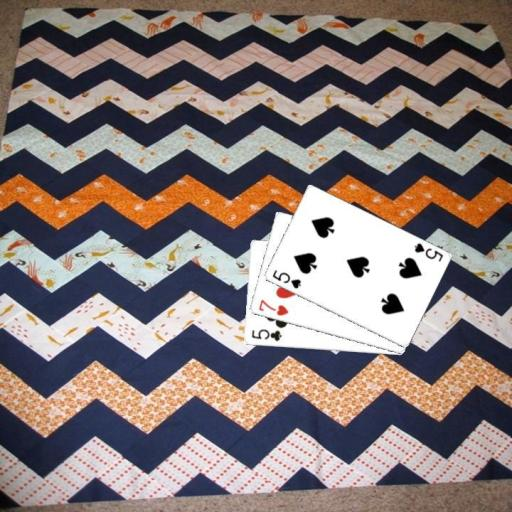5C: (248, 326, 282, 343)
5S: (269, 267, 302, 290), (411, 240, 444, 263)
7H: (255, 297, 290, 317)
